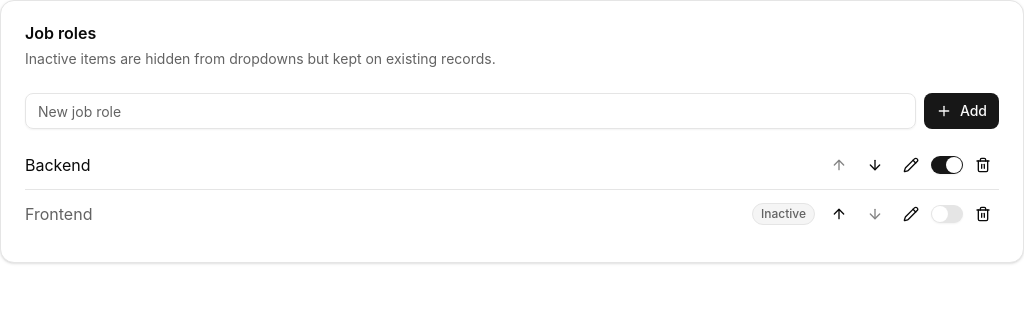
it: LookupManager (admin) › validates the name and shows duplicate errors from the server
Click the button "Add".
click(961, 111)  # box [924,93,999,129]
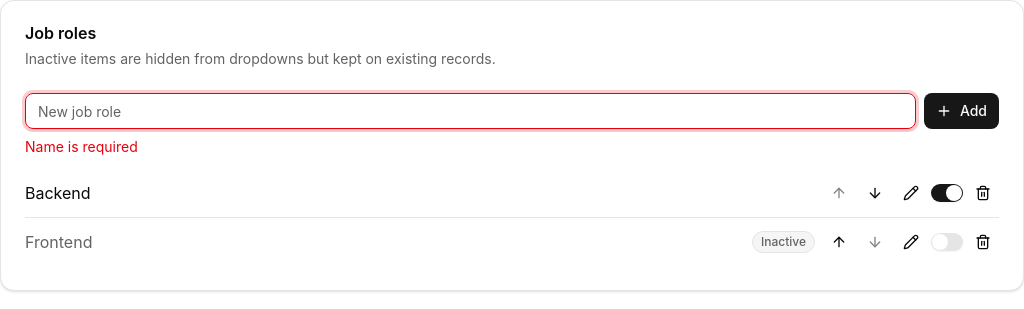
Check: the text "Name is required" is shown, box [25,138,138,155]
Type "backend" into the field named "New job role name".
click(470, 111); type("backend")  # box [25,93,916,129]
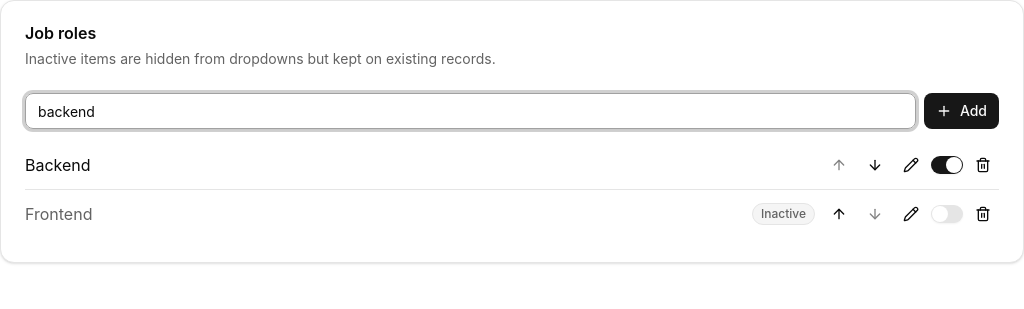
Click the button "Add".
click(961, 111)  # box [924,93,999,129]
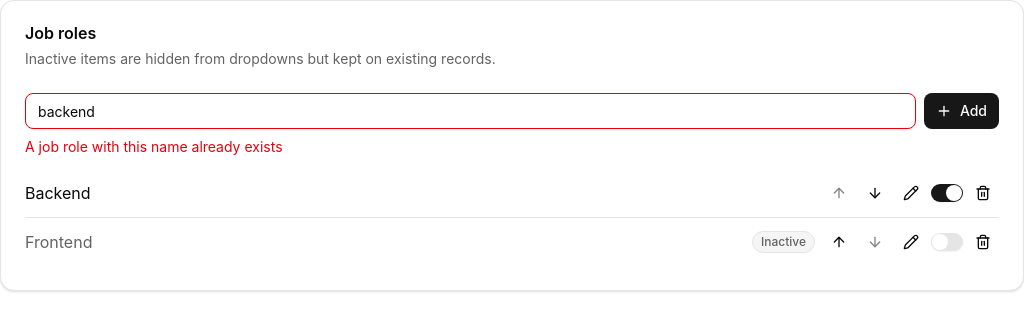
Check: the text "A job role with this name already exists" is shown, box [25,138,282,155]
